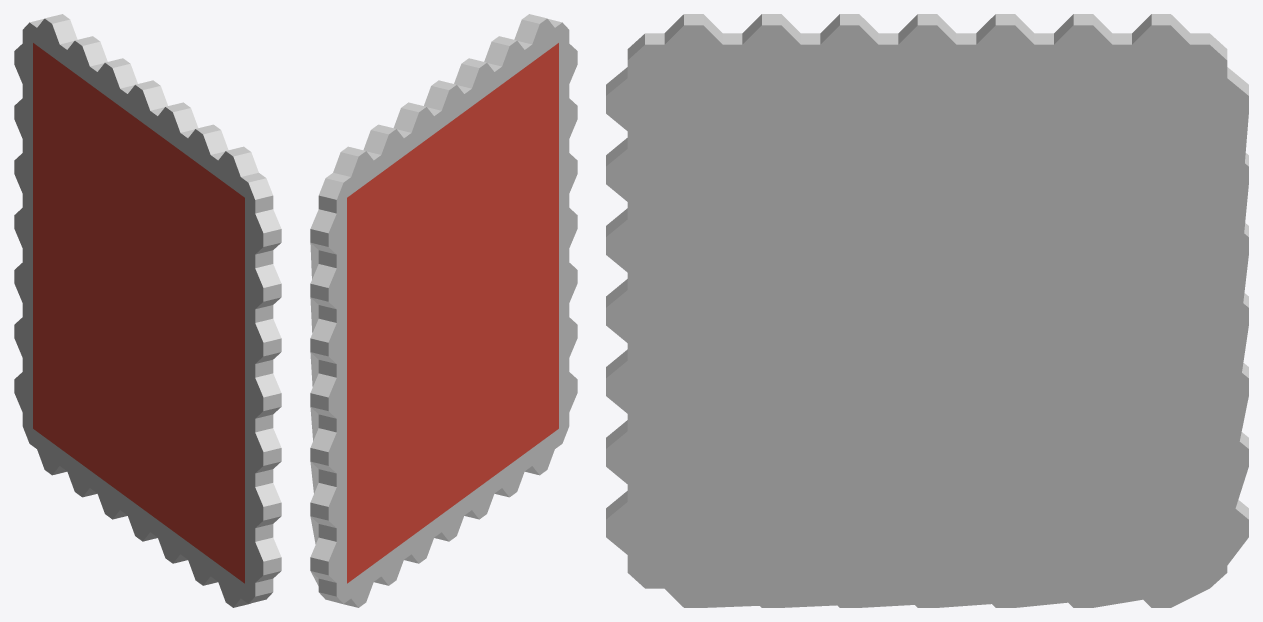
The model's file is stamp.fbx.
The picture shows the model from 3 angles, left to right: view 1: azimuth 30°, elevation 25°; view 2: azimuth 150°, elevation 25°; view 3: azimuth 270°, elevation 25°; orthographic projection. The views are drawn at different scales.
Visible parts, largest first — view 1: Cube; view 2: Cube; view 3: Cube.
Boxes of the visible parts, left/top/right/bottom form: Cube: left=14, top=14, right=281, bottom=607; Cube: left=310, top=14, right=577, bottom=607; Cube: left=606, top=14, right=1248, bottom=607.
Bounding box in the file's own units: 1.97 × 47.01 × 47.01.
